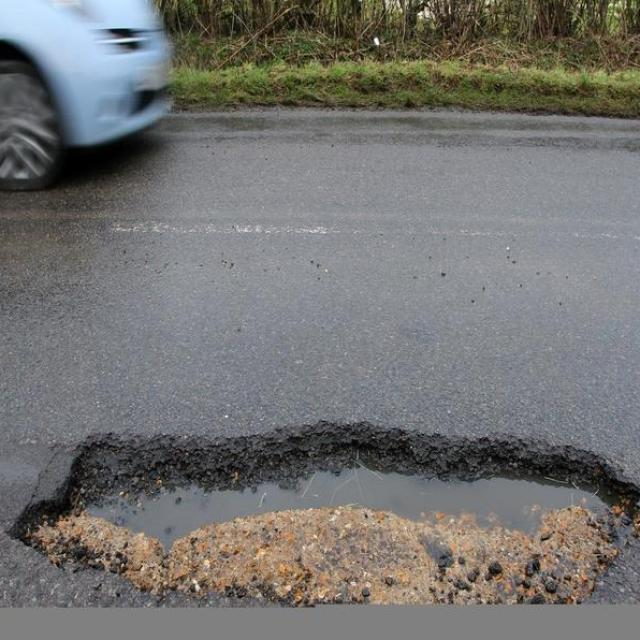Lubang: (19, 432, 640, 629)
